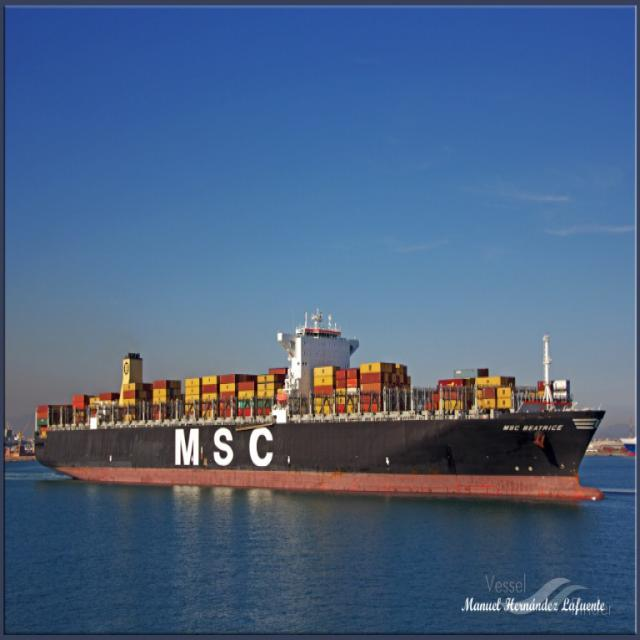Container Ship: (27, 308, 609, 503)
